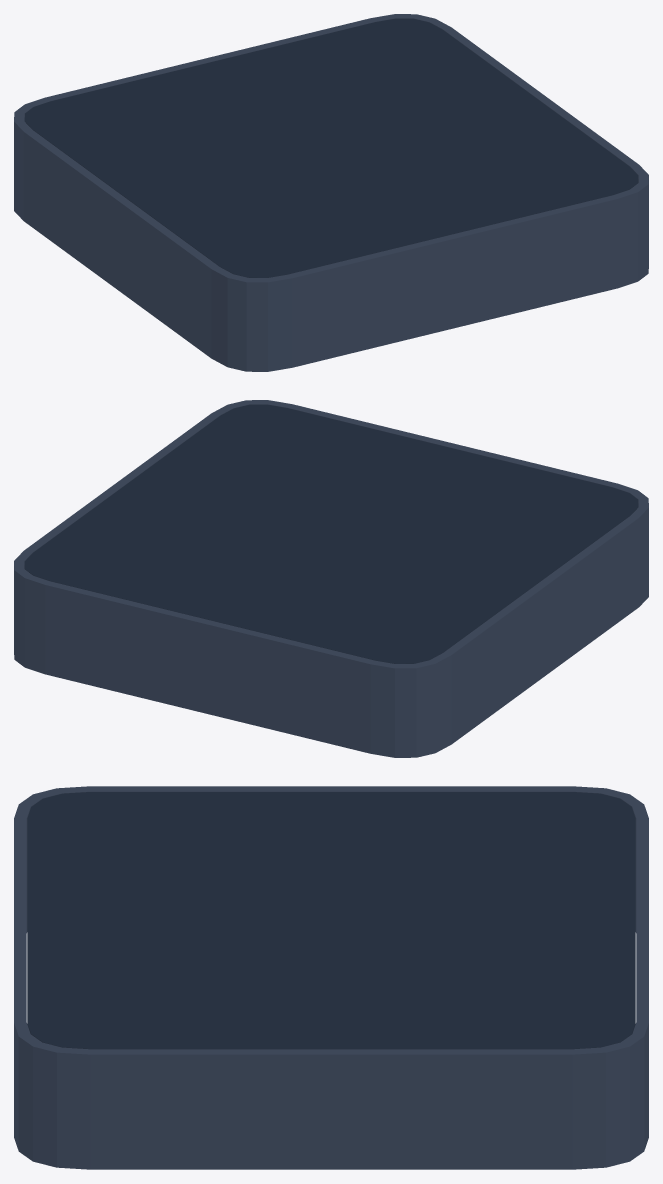
Rendered from platform.glb.
The picture shows the model from 3 angles, top to bottom: view 1: azimuth 30°, elevation 25°; view 2: azimuth 150°, elevation 25°; view 3: azimuth 270°, elevation 25°; orthographic projection. The views are drawn at different scales.
Parts seen in each view (by area): view 1: platform-body, platform-border; view 2: platform-body, platform-border; view 3: platform-body, platform-border.
Part boxes in pixels (x1,y1,x2,y2): platform-body: [24, 18, 638, 277]; platform-border: [14, 14, 648, 371]; platform-body: [24, 404, 638, 663]; platform-border: [14, 400, 648, 757]; platform-body: [27, 792, 635, 1049]; platform-border: [14, 786, 648, 1169].
Size of the model in its own units: 1 by 0.2 by 1.
